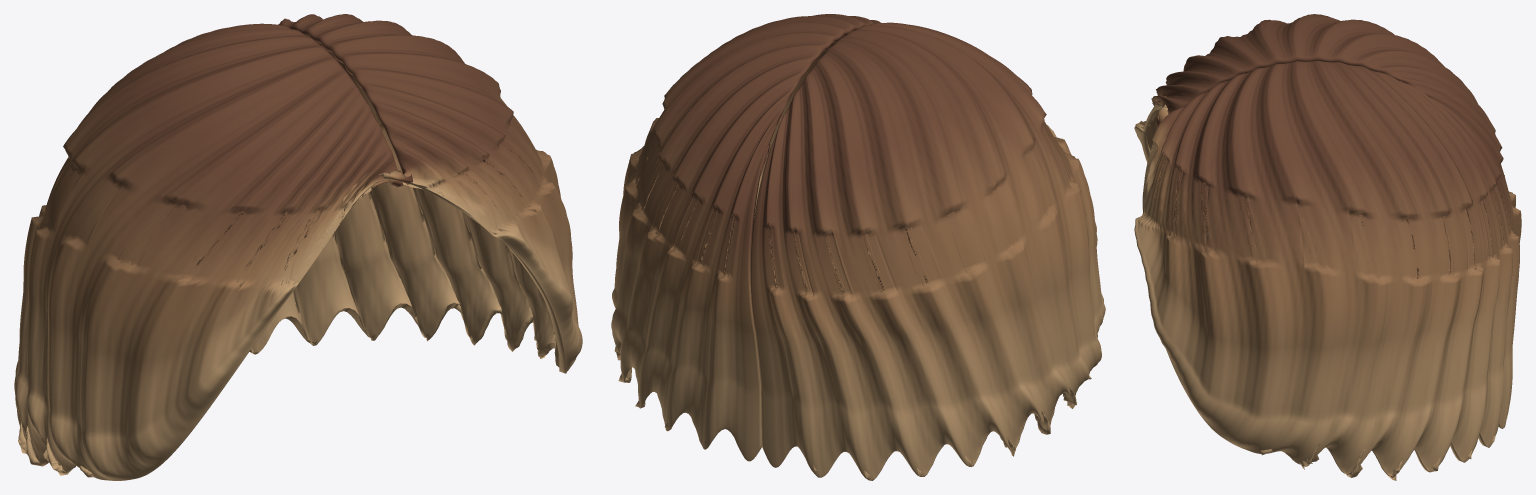
File: Ombre-45d339fdd49e253-hair.glb
The picture shows the model from 3 angles, left to right: view 1: azimuth 30°, elevation 25°; view 2: azimuth 150°, elevation 25°; view 3: azimuth 270°, elevation 25°; orthographic projection. The views are drawn at different scales.
Parts seen in each view (by area): view 1: 226 hair / Hair252 / flowing sculpt flow.001; view 2: 226 hair / Hair252 / flowing sculpt flow.001; view 3: 226 hair / Hair252 / flowing sculpt flow.001.
Part boxes in pixels (<box>): 226 hair / Hair252 / flowing sculpt flow.001: <box>14,14,582,480</box>; 226 hair / Hair252 / flowing sculpt flow.001: <box>611,14,1105,480</box>; 226 hair / Hair252 / flowing sculpt flow.001: <box>1134,14,1521,480</box>.
Size of the model in its own units: 1.11 by 0.8603 by 0.8447.
1 material, 1 textured.
